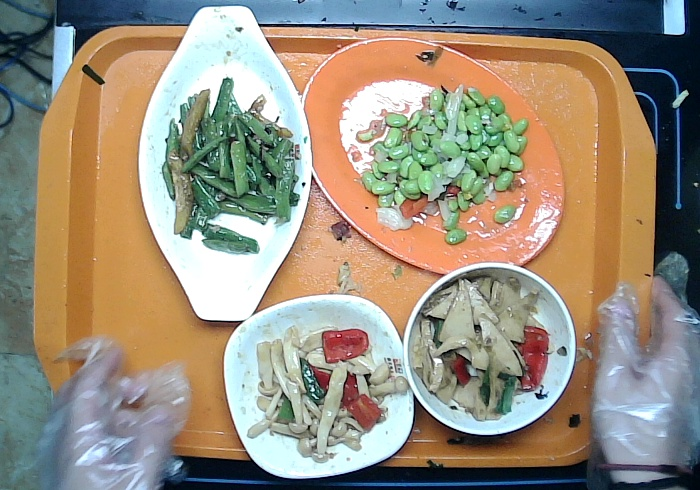NLDX-Bai_Se_Xiao_Fang_Die: (222, 292, 415, 480)
NLDX-Fan_Wan: (403, 261, 577, 438)
NLDX-Ju_Se_Pan: (300, 37, 566, 275)
NLDX-Yu_Pan: (137, 4, 311, 324)
